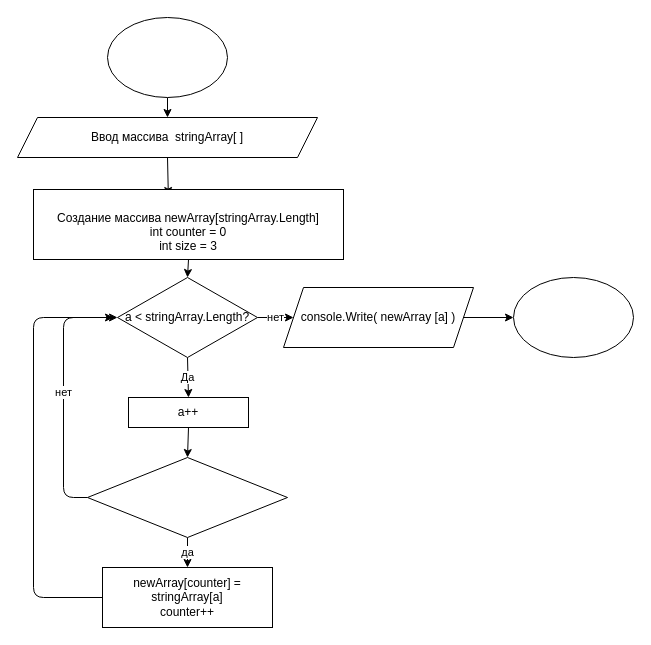
Some shapes in this 651 by 645 pixel diagram are drawn without their labels. Here are the shapes that lost their labels. From the top down, the centre of each, then its label:
the point at 167,57: Начало
the point at 573,317: Конец
the point at 187,497: stringArray[a] <= size?
